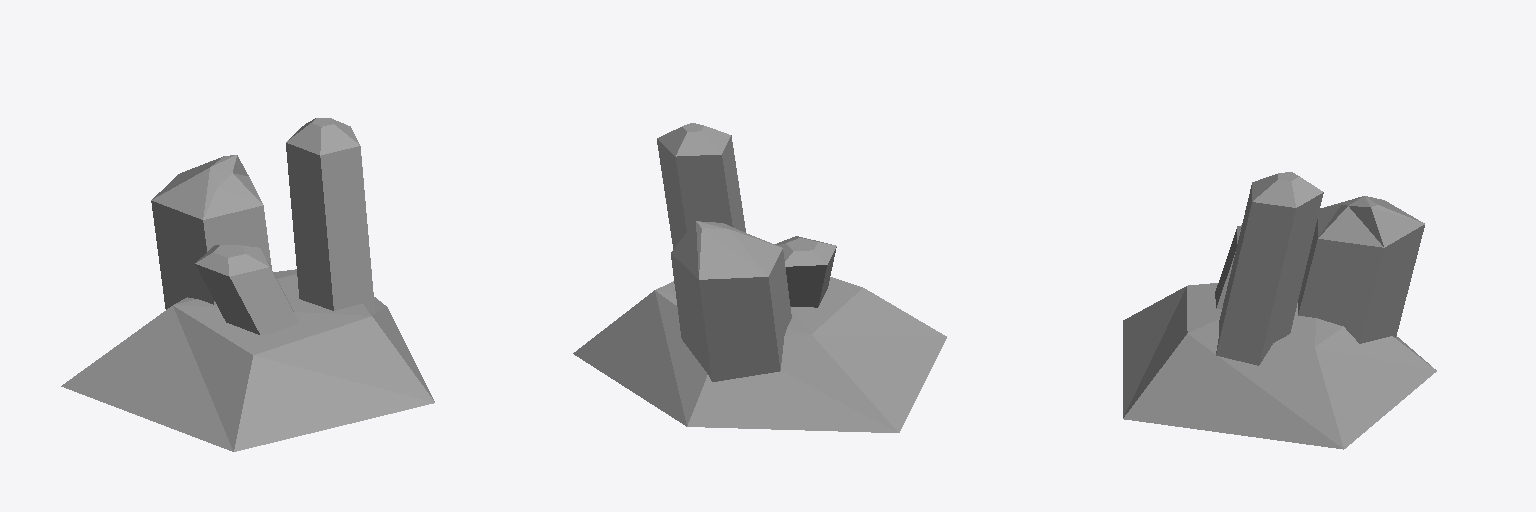
File: crystal.obj
The picture shows the model from 3 angles: view 1: azimuth 30°, elevation 25°; view 2: azimuth 150°, elevation 25°; view 3: azimuth 270°, elevation 25°; orthographic projection.
Visible parts, largest first — view 1: Circle.003_Circle.008; view 2: Circle.003_Circle.008; view 3: Circle.003_Circle.008.
Part boxes in pixels (left/top/right/bottom): Circle.003_Circle.008: left=61, top=118, right=434, bottom=451; Circle.003_Circle.008: left=573, top=123, right=946, bottom=432; Circle.003_Circle.008: left=1123, top=172, right=1436, bottom=449.
Size of the model in its own units: 0.9511 by 0.6349 by 0.7941.